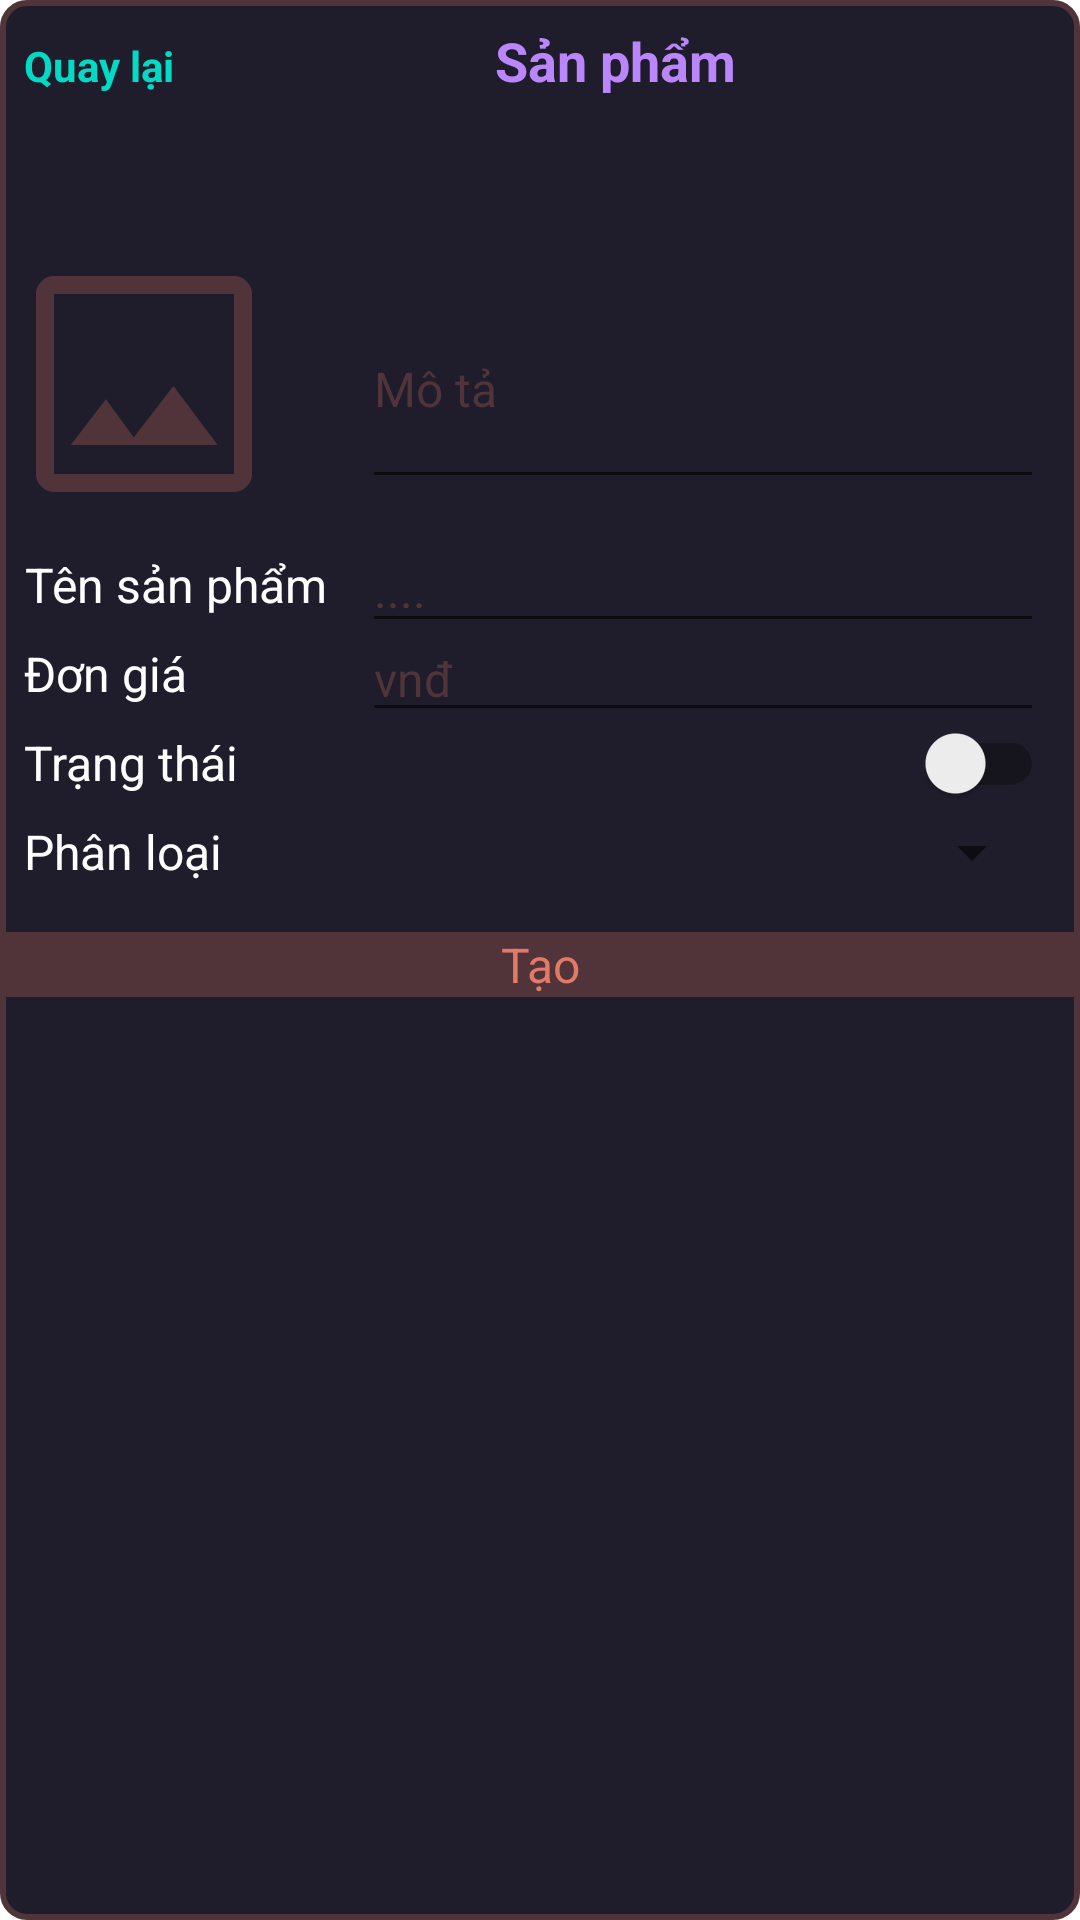

Where icons sit on this 1080*1920 app screen, as (x1=x1, y1=y1, x2=x2, y2=y2):
photo: (x1=36, y1=276, x2=252, y2=492)
